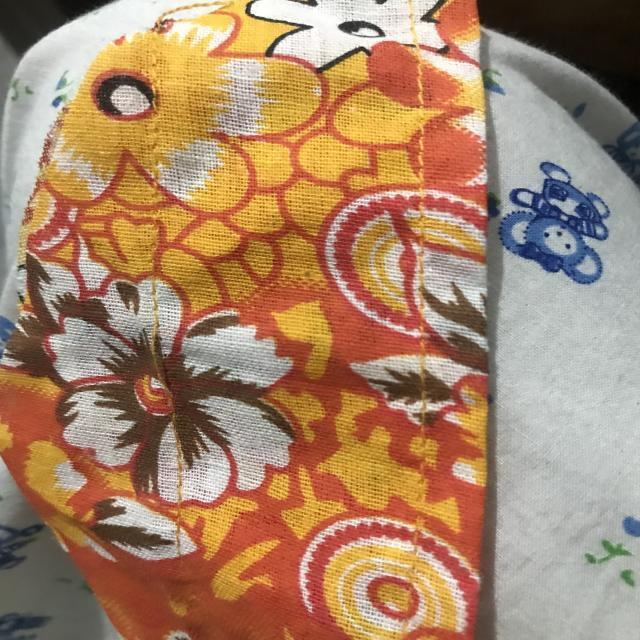skip: (144, 312, 182, 401)
